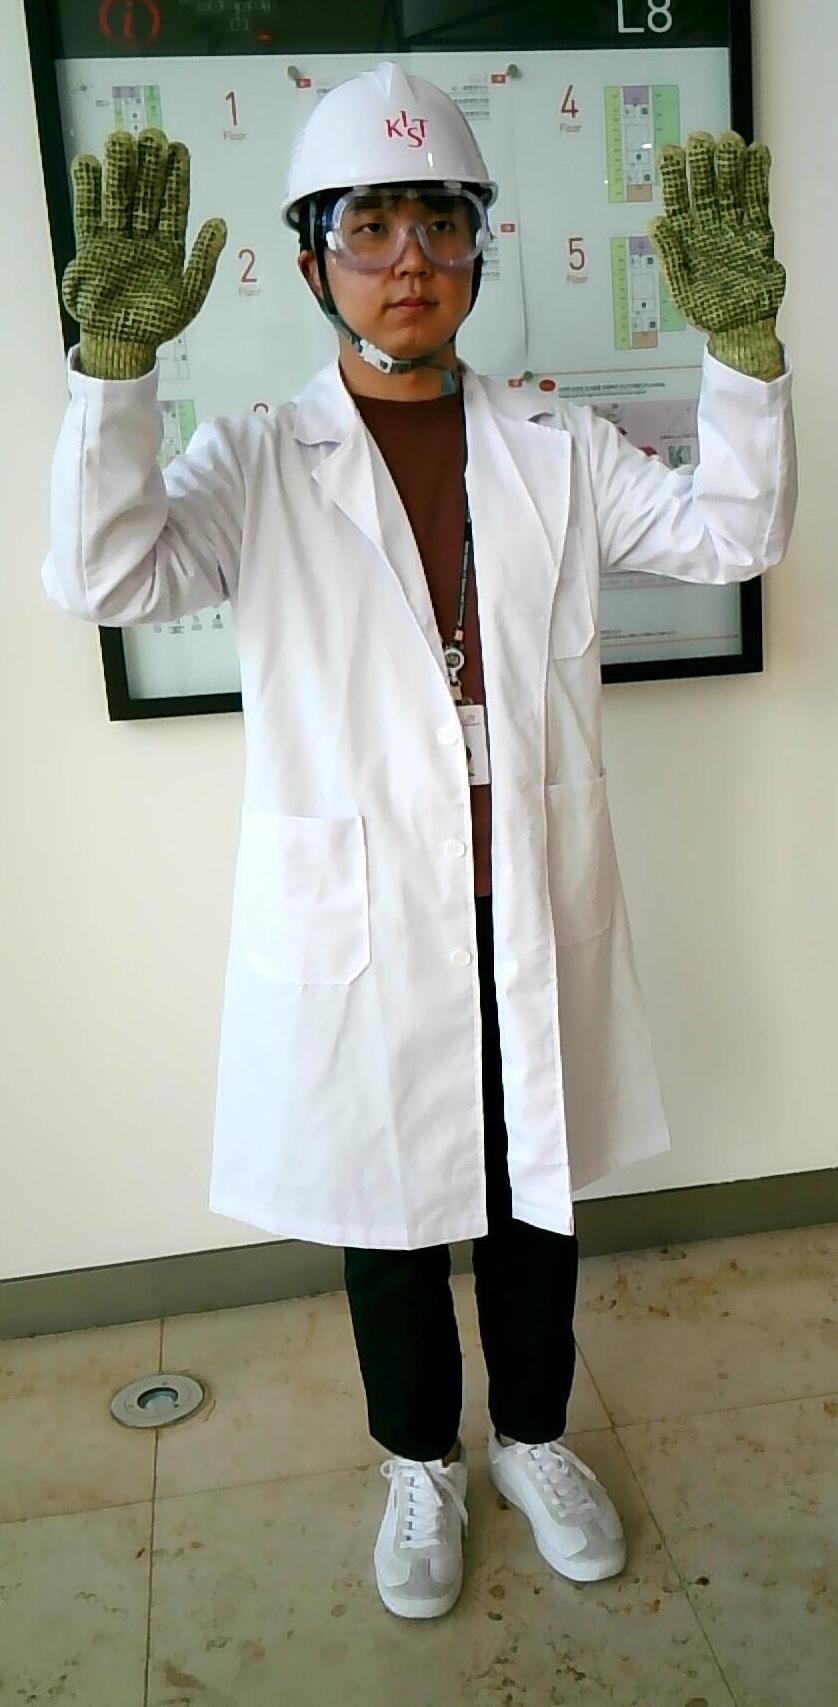lab_coat: (221, 394, 648, 1216)
